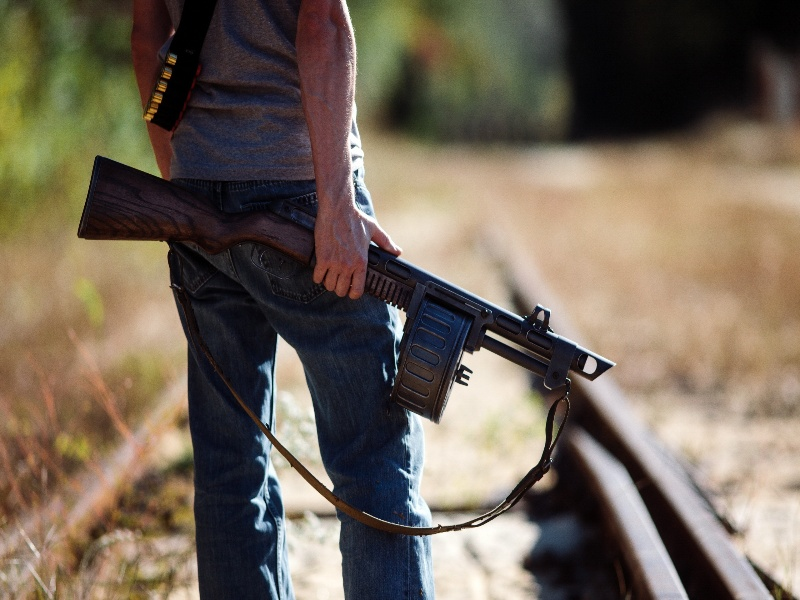person: (130, 1, 435, 600)
weapon: (78, 154, 617, 425)
